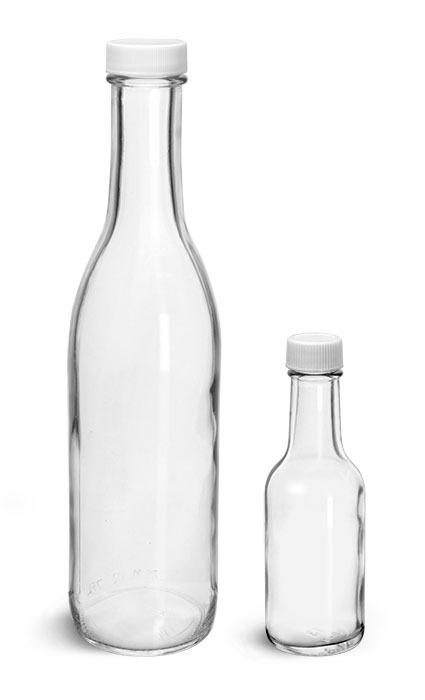container: (56, 34, 227, 658), (257, 336, 366, 655)
